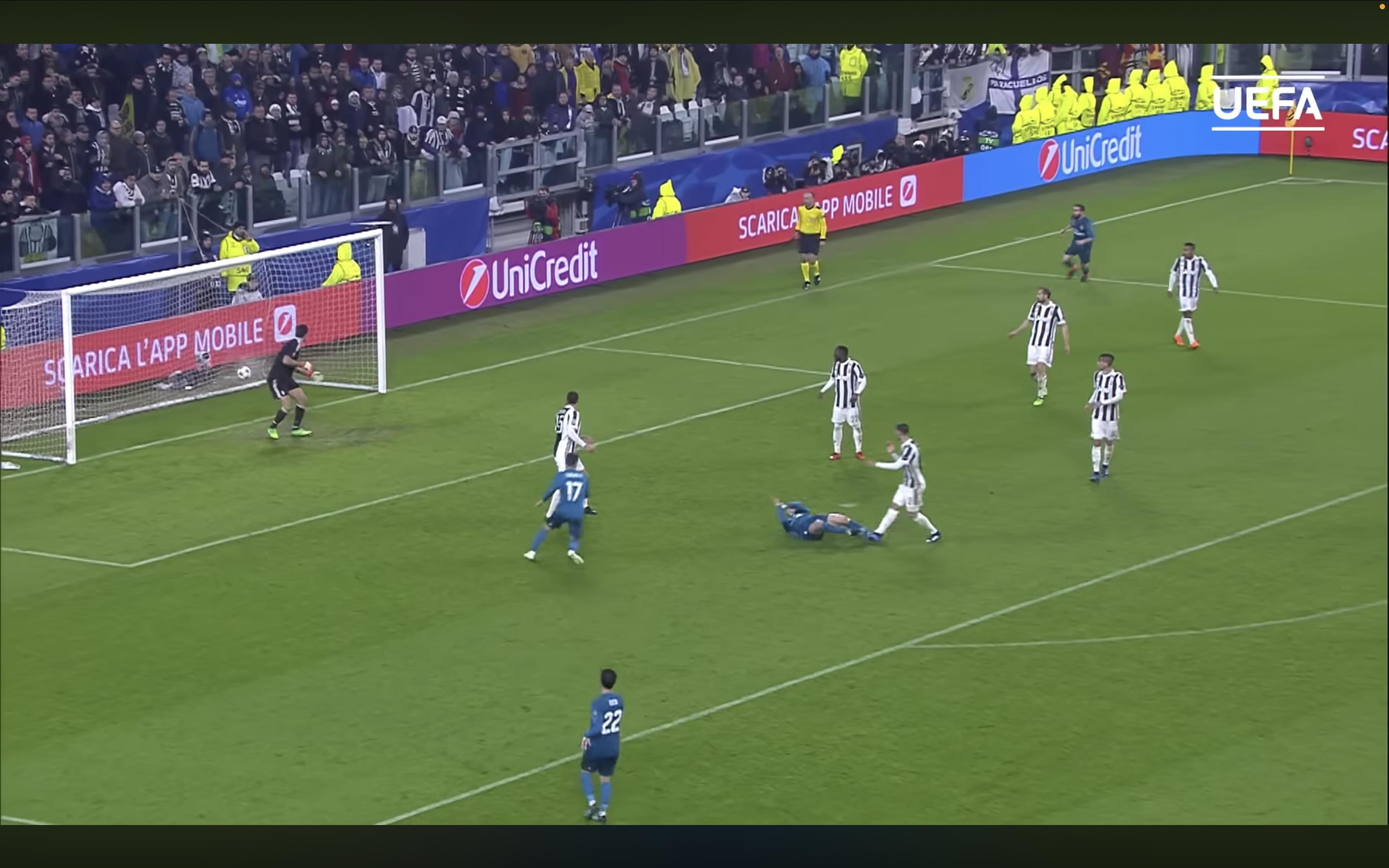ball: (236, 365, 252, 380)
player: (867, 423, 941, 543), (1008, 288, 1070, 405), (524, 453, 589, 564), (581, 669, 623, 823), (267, 324, 321, 439), (819, 346, 866, 460), (1168, 243, 1218, 349), (1086, 354, 1126, 483), (772, 498, 867, 541), (554, 391, 594, 472), (1061, 204, 1094, 281)
referee: (795, 192, 827, 289)
